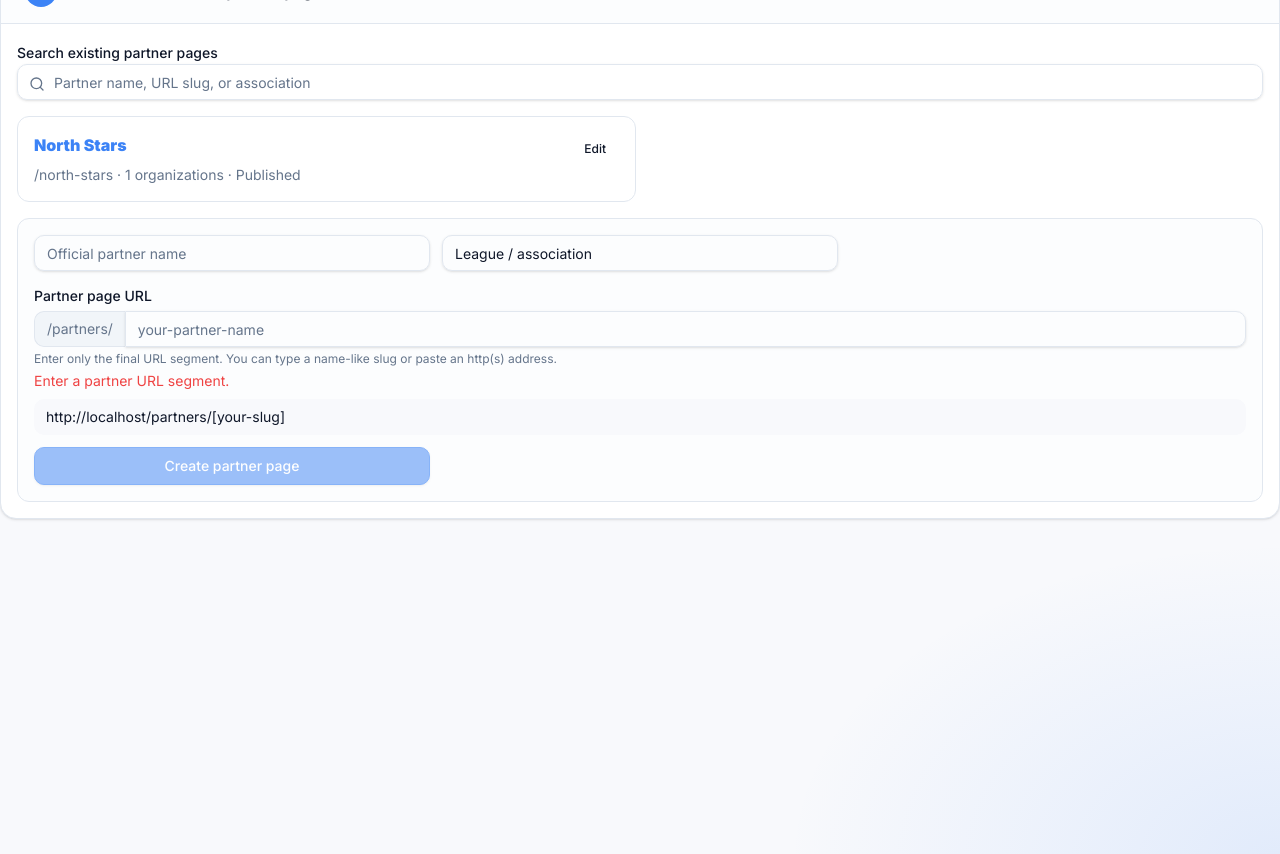
Scenario: AdminPartnerLanding duplicate swap review queue › shows approve and deny controls for pending requests and posts the decision
The width and height of the screenshot is (1280, 854).
Later steps or results of the test are not shown.
Click the button with aria-label "Edit North Stars" at (595, 149), box [571,133,619,165]
(page scrolled)
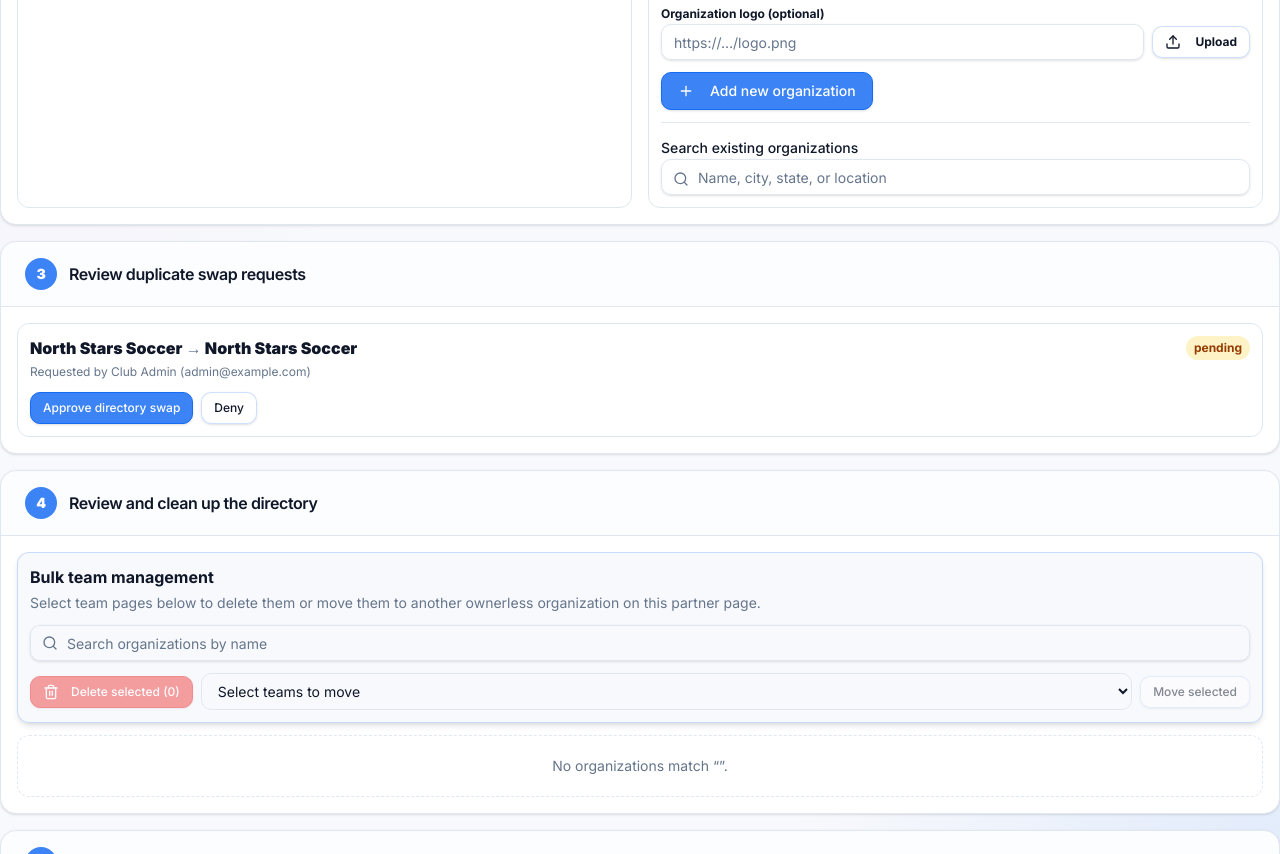
Check: the element with test id "duplicate-swap-request-swap-request-1" shows "North Stars Soccer", box [30,338,182,358]
Check: the button "Approve directory swap" is shown, box [30,392,193,424]
Check: the button "Deny" is shown, box [201,392,257,424]
